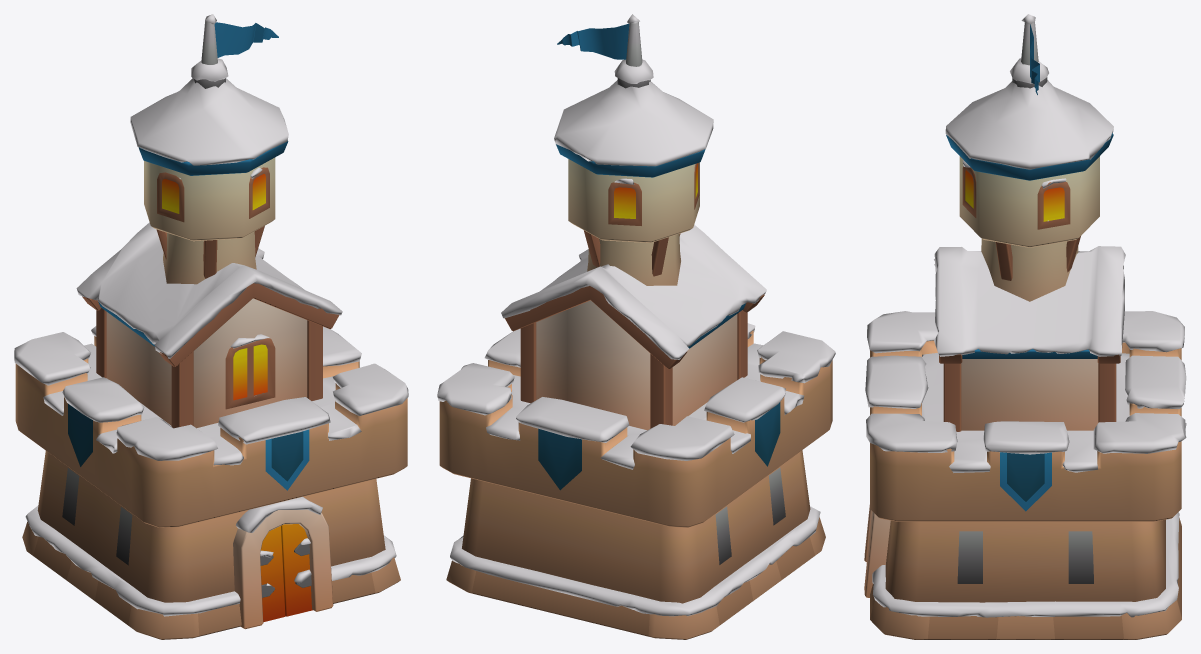
File: SmallCastleSnowy_2.fbx
3 views of the same model, side by side, from view 1: azimuth 30°, elevation 25°; view 2: azimuth 150°, elevation 25°; view 3: azimuth 270°, elevation 25° (orthographic). The views are drawn at different scales.
Visible parts, largest first — view 1: SmallCastleSnowy_2; view 2: SmallCastleSnowy_2; view 3: SmallCastleSnowy_2.
Part boxes in pixels (box(x1,y1,x2,y2)): SmallCastleSnowy_2: box(14, 14, 408, 639); SmallCastleSnowy_2: box(437, 14, 835, 639); SmallCastleSnowy_2: box(864, 14, 1186, 639).
Bounding box in the file's own units: 373 × 725 × 375.
